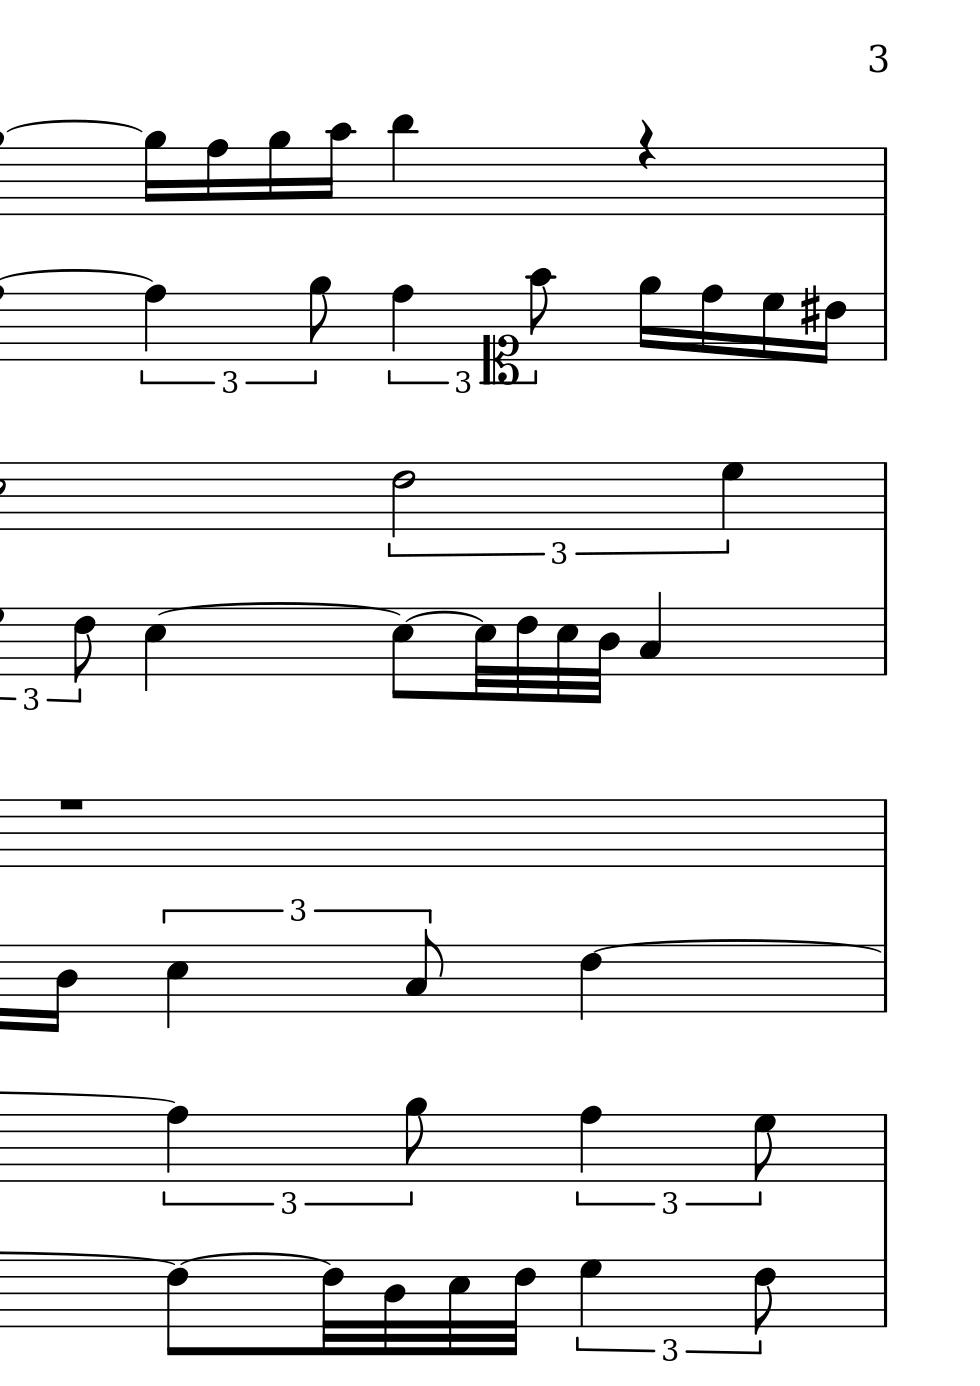16_10: (319, 122, 353, 218)
16_4: (46, 942, 78, 1034), (381, 1256, 407, 1356)
16_6: (816, 290, 847, 366)
16_7: (759, 290, 785, 364)
16_8: (203, 137, 229, 218), (698, 282, 723, 361)
16_9: (142, 129, 167, 217), (265, 129, 290, 217), (636, 274, 659, 361)
2_6: (390, 461, 415, 537)
3: (218, 366, 243, 397), (868, 42, 888, 75), (660, 1189, 681, 1220), (657, 1336, 679, 1365), (279, 1189, 300, 1217), (287, 896, 307, 924), (552, 537, 567, 567), (455, 368, 472, 394)
32_4: (590, 606, 622, 705)
32_5: (447, 1259, 473, 1357), (554, 606, 579, 705), (473, 606, 497, 702)
32_6: (505, 1257, 536, 1356), (320, 1256, 345, 1357), (514, 606, 538, 704)
4_3: (637, 590, 663, 676)
4_5: (163, 943, 189, 1032), (142, 606, 167, 694)
4_6: (577, 942, 603, 1023)
4_7: (577, 1258, 603, 1329), (719, 461, 745, 531)
4_8: (577, 1104, 602, 1183), (163, 1103, 188, 1183), (142, 283, 167, 362), (389, 282, 414, 361)
8_10: (526, 267, 553, 361)
8_11: (388, 111, 415, 217)
8_3: (403, 927, 444, 1014)
8_5: (389, 606, 414, 701)
8_6: (164, 1257, 190, 1359), (752, 1257, 776, 1335), (71, 606, 95, 683)
8_7: (751, 1112, 778, 1183)
8_9: (402, 1096, 428, 1182), (307, 275, 332, 362)
Rests1: (55, 794, 87, 813)
Rests4: (636, 117, 657, 170)
Sharp: (798, 283, 821, 336)
Single_barline: (874, 945, 894, 1012), (876, 608, 893, 676), (876, 800, 893, 867), (876, 1115, 893, 1181), (876, 1260, 893, 1326), (877, 148, 893, 214), (877, 463, 893, 529), (877, 293, 892, 359)
Slur: (592, 937, 878, 953), (156, 602, 397, 617), (400, 611, 487, 624)
Soprano_Cclef: (482, 291, 519, 388)
